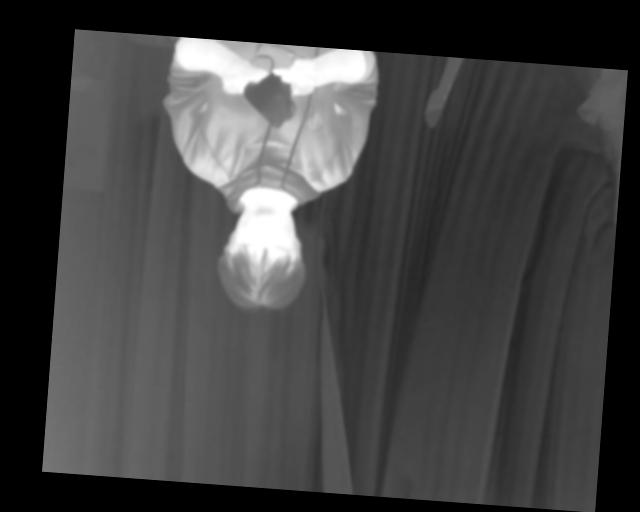face: (219, 194, 309, 312)
